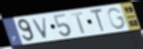5: (53, 13, 73, 38)
9: (18, 18, 36, 44)
G: (107, 7, 127, 31)
T: (89, 7, 107, 34), (70, 11, 87, 35)
V: (31, 16, 49, 40)
